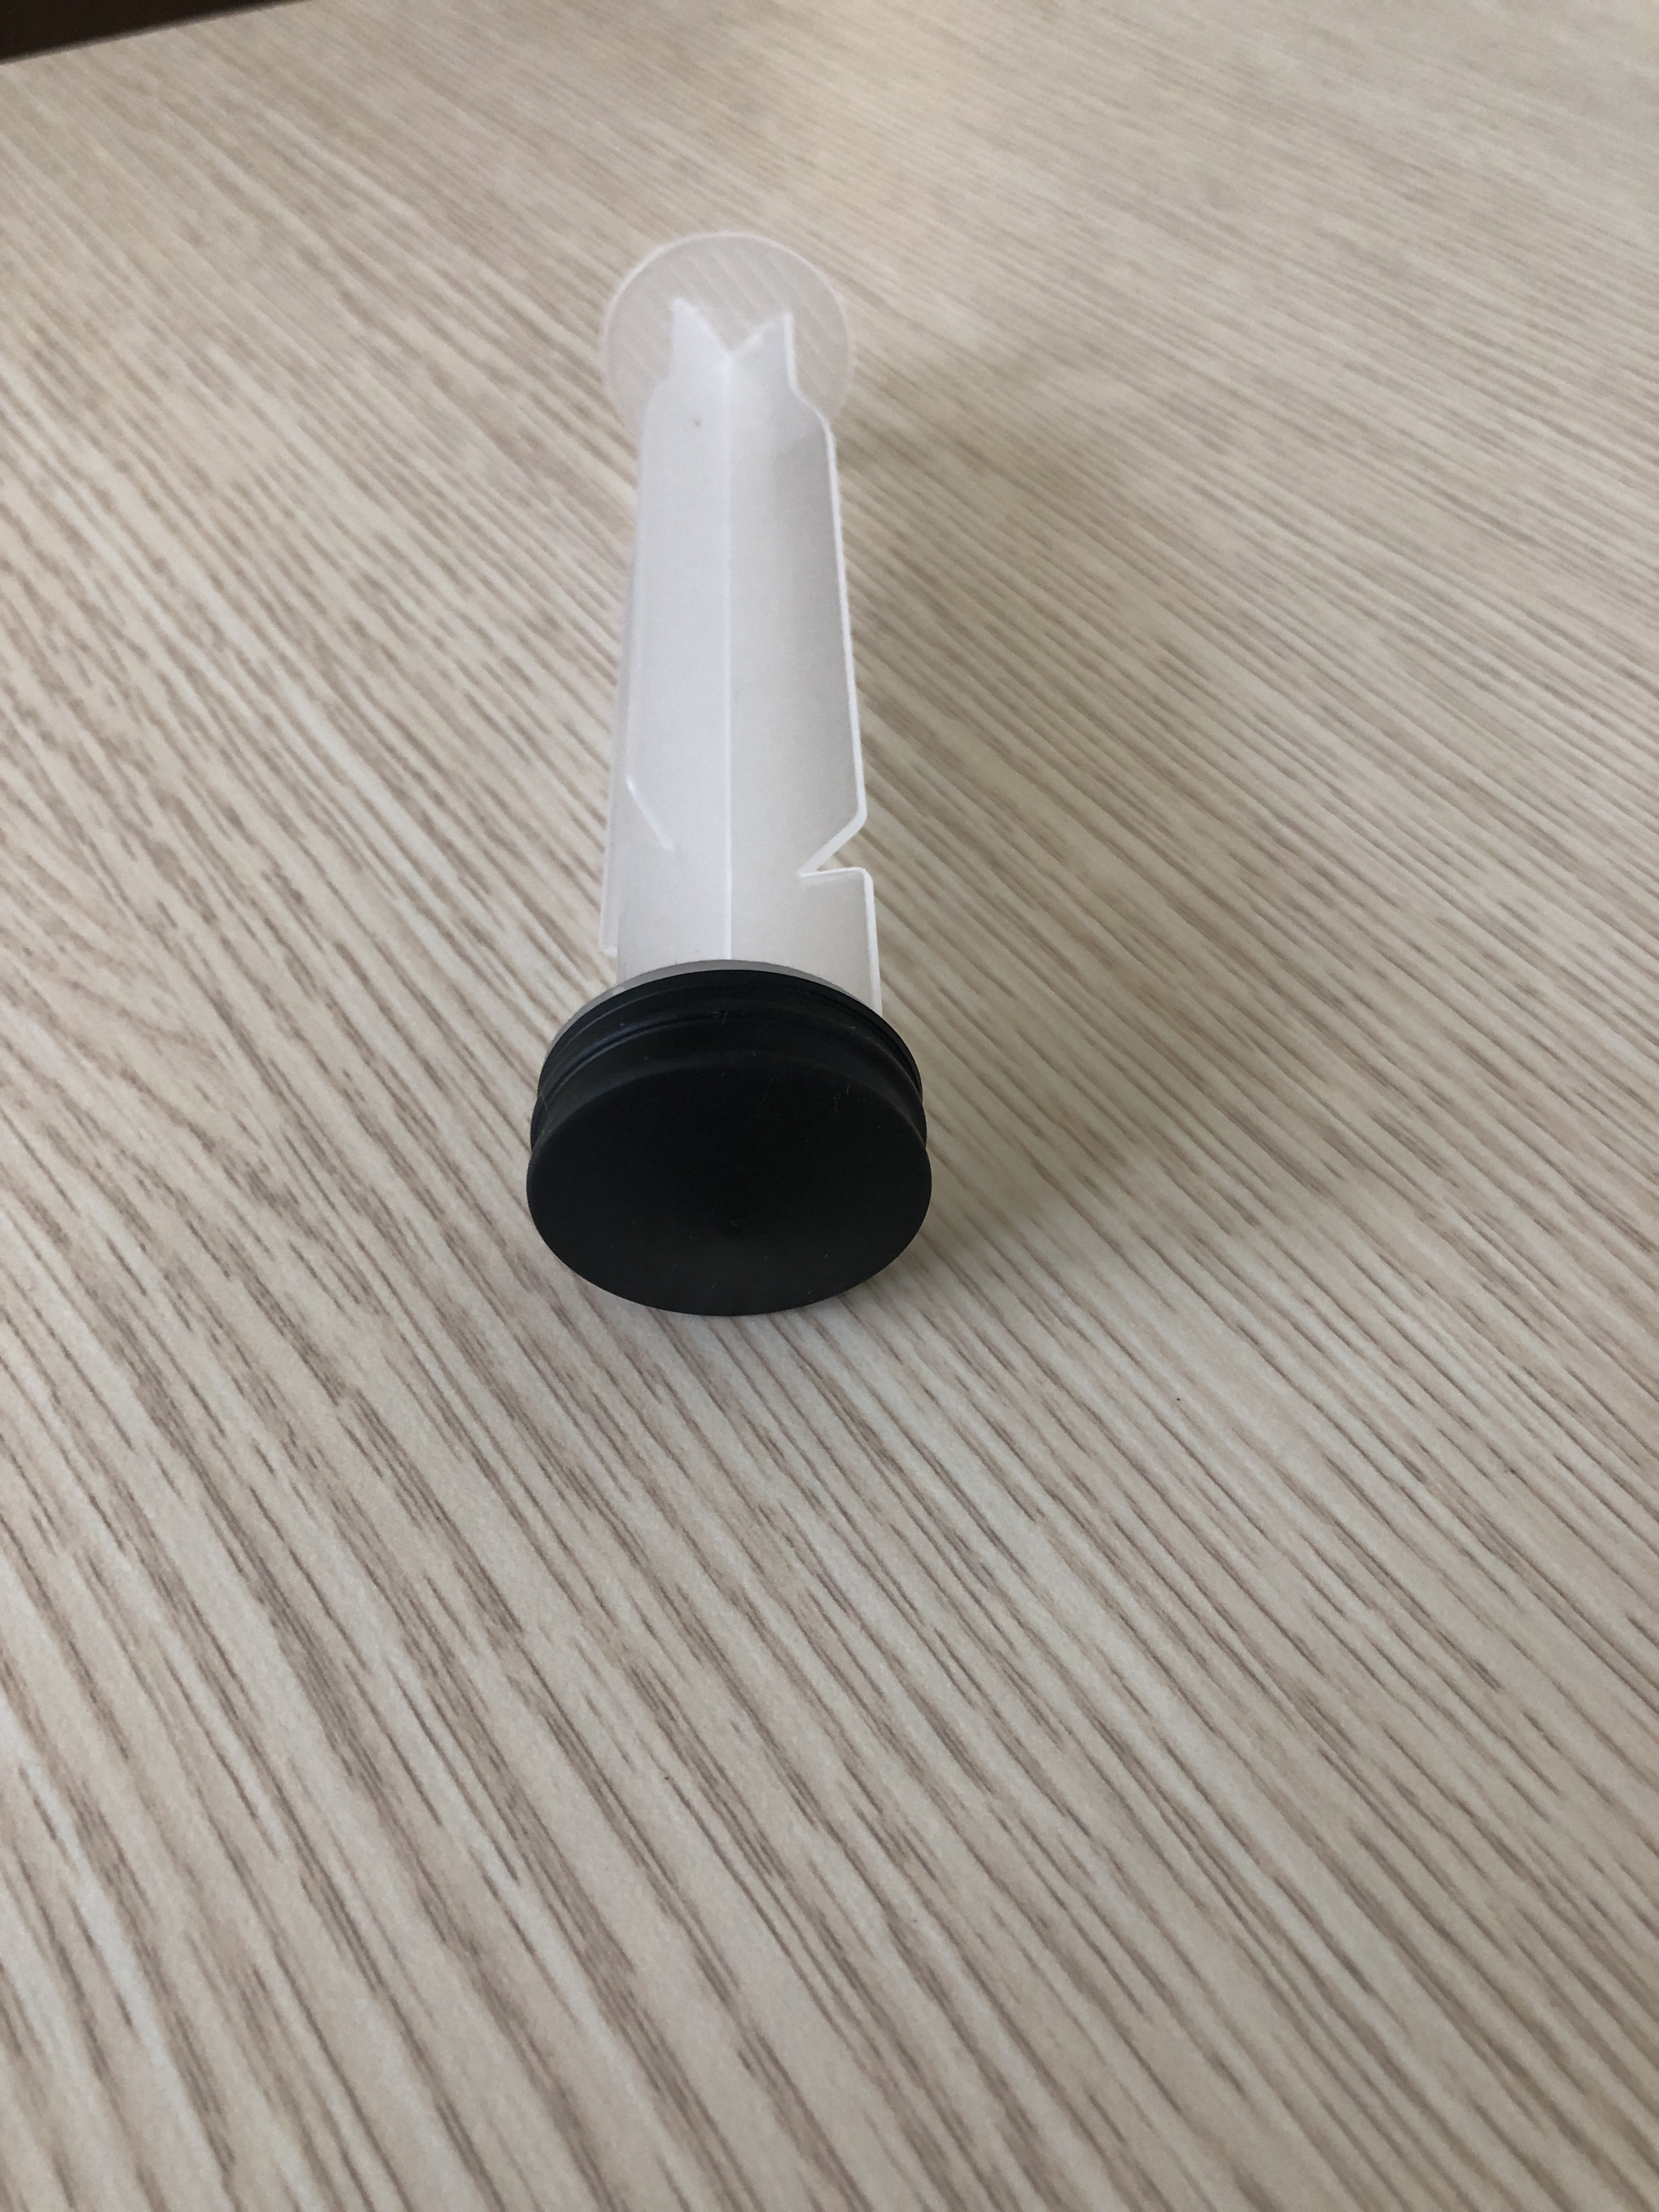plunger: (509, 225, 945, 1331)
